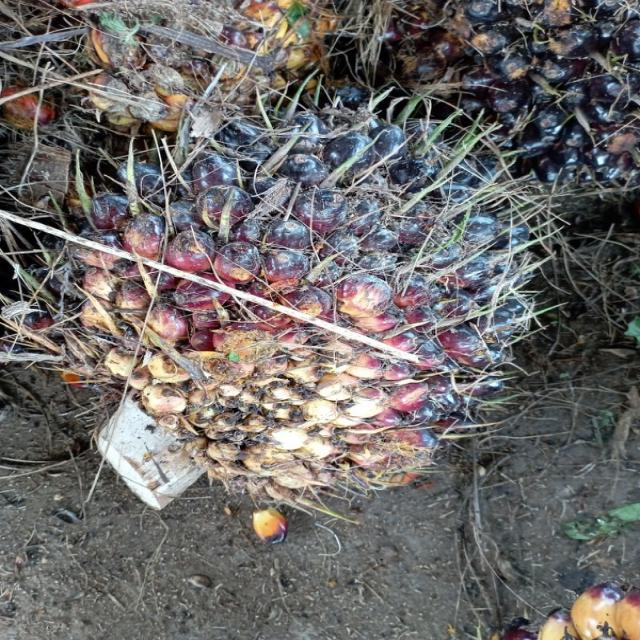fraksi 00: (43, 109, 535, 533)
